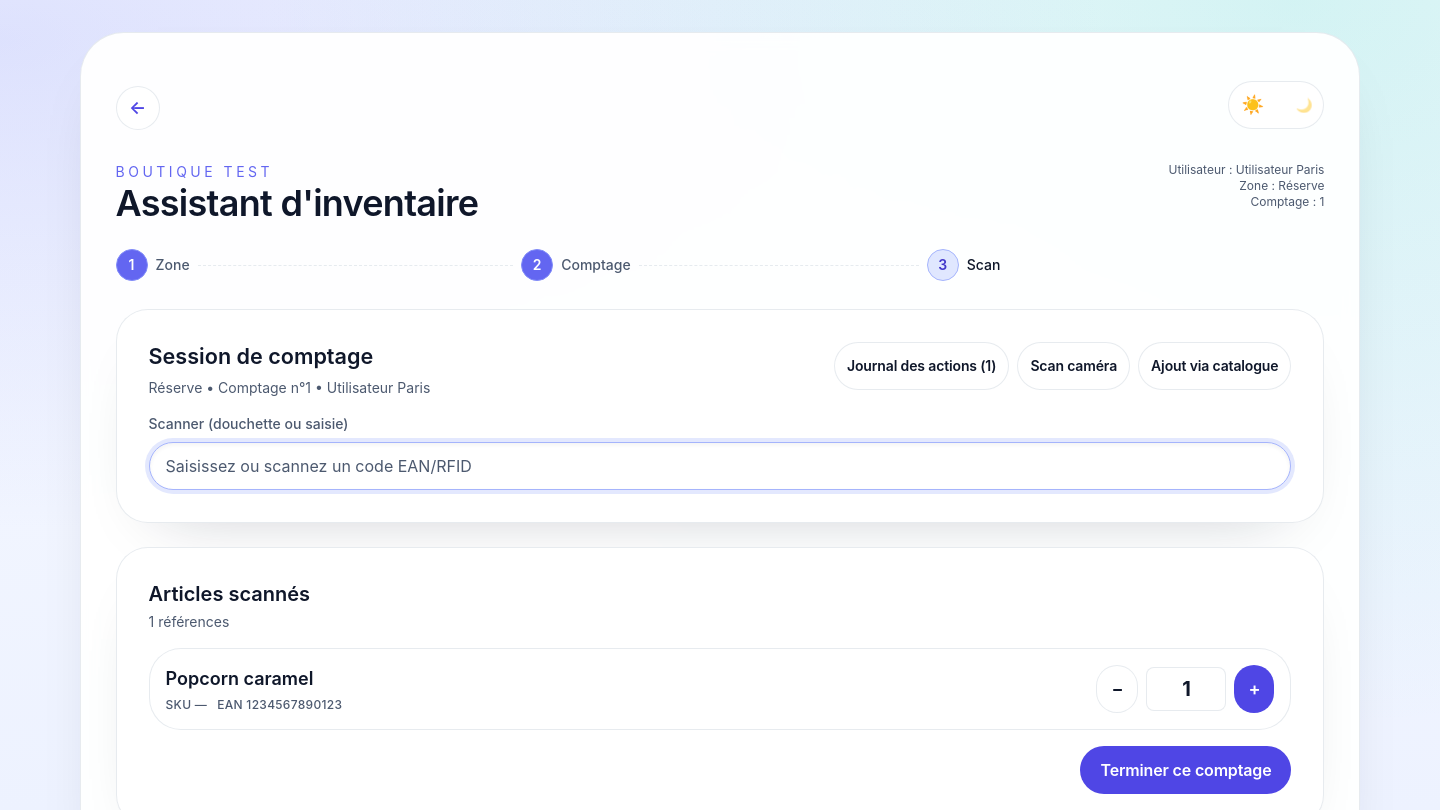
Scenario: Workflow d'inventaire › permet de saisir directement une quantité élevée
The width and height of the screenshot is (1440, 810).
Replace the text in the field named "Quantité pour Popcorn caramel" with "2000". click: (1186, 689)
box: [1146,667,1226,711]
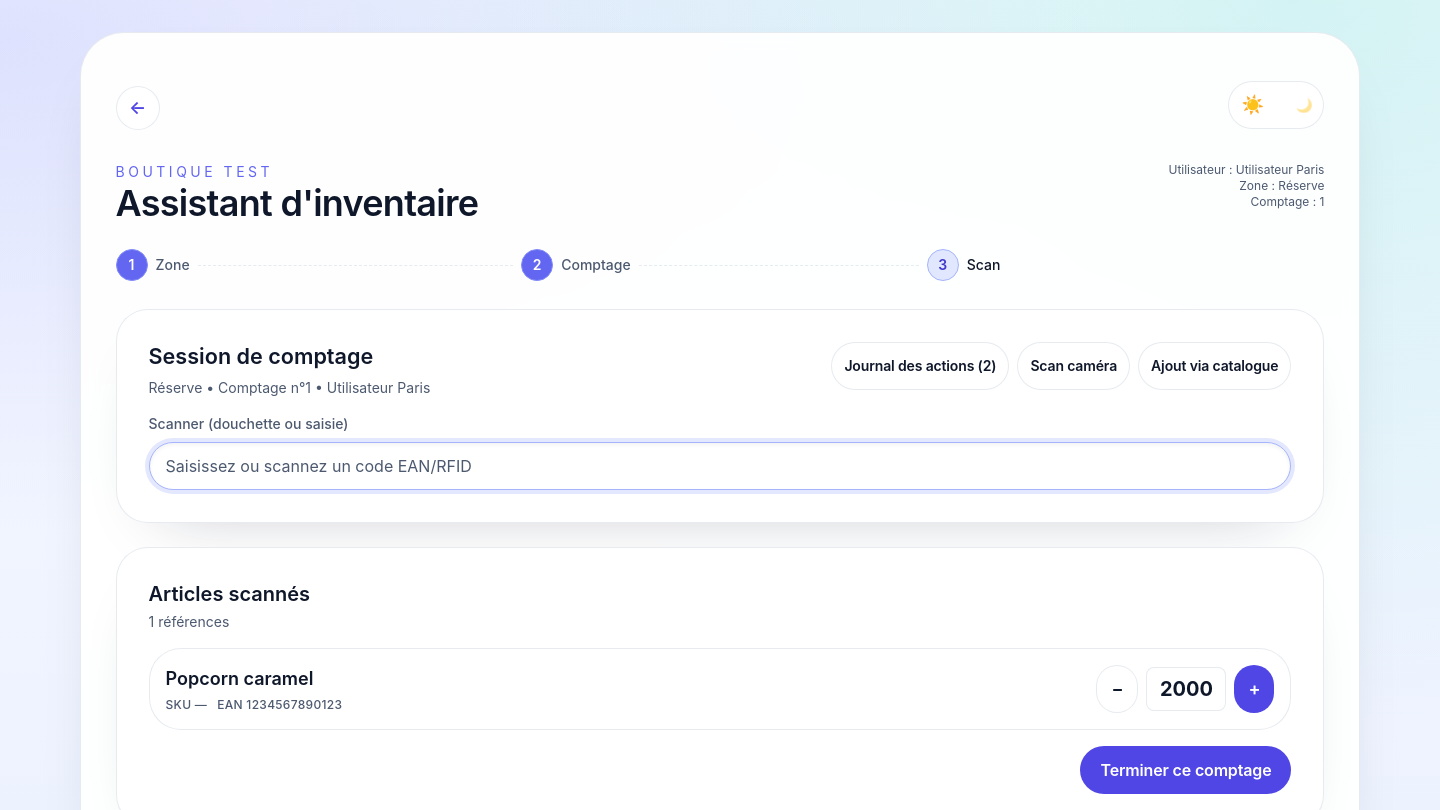
Clear the field showing "2000". click: (1186, 689)
box: [1146,667,1226,711]
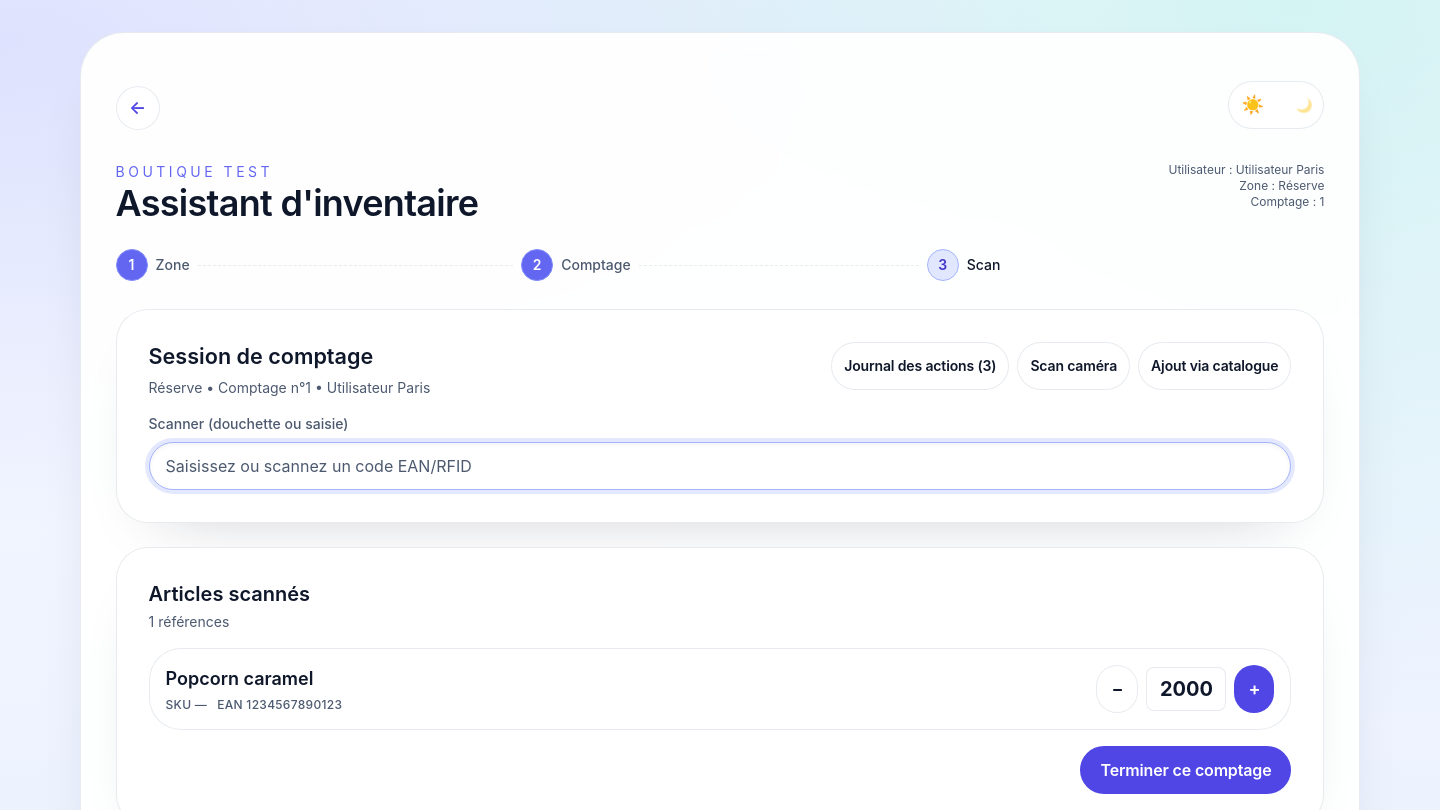
Replace the text in the field showing "2000" with "0". click: (1186, 689)
box: [1146,667,1226,711]
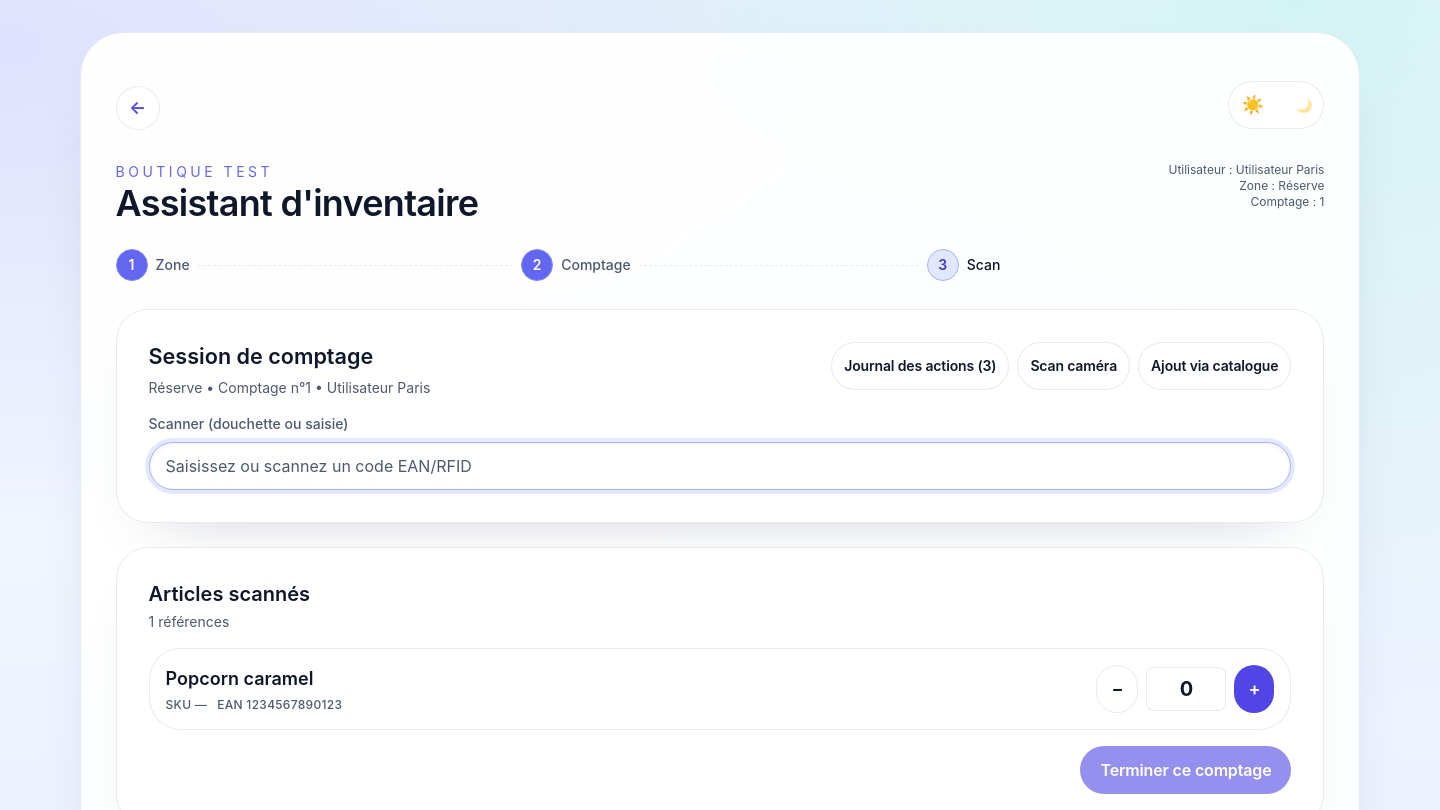
Leave the field showing "2000", box [1146,667,1226,711]
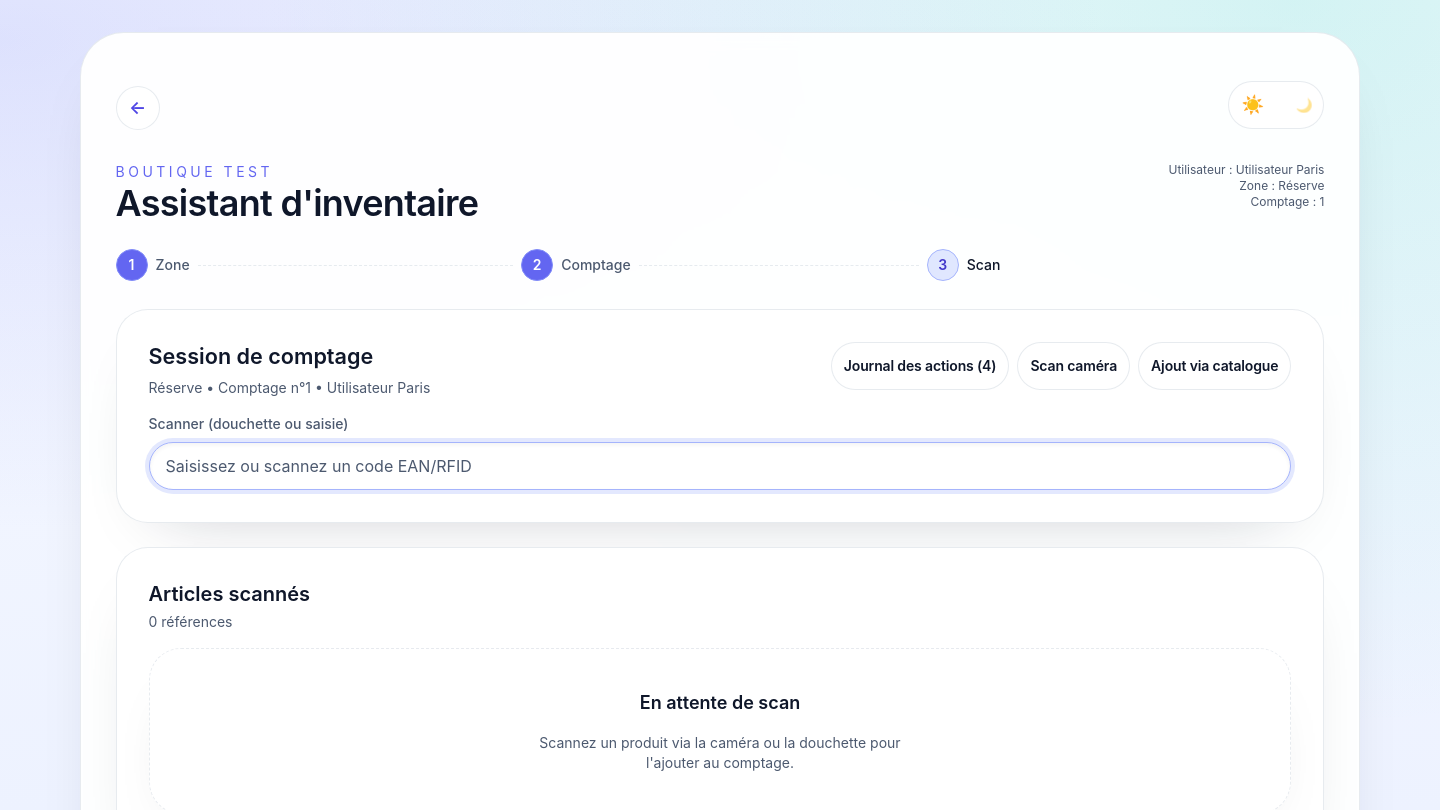
Check: the list item with test id "scanned-item" is gone
